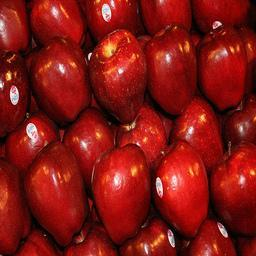apple: (25, 139, 88, 246), (89, 143, 150, 243), (88, 27, 148, 127), (197, 17, 253, 118), (150, 139, 208, 236), (31, 39, 91, 131), (149, 24, 201, 121), (209, 143, 256, 238), (62, 107, 115, 184), (171, 96, 224, 172), (114, 103, 169, 169), (4, 110, 61, 173), (28, 1, 88, 48), (120, 215, 178, 254), (83, 1, 139, 41), (190, 1, 253, 35), (183, 219, 236, 255), (138, 1, 191, 35), (1, 1, 29, 55)
